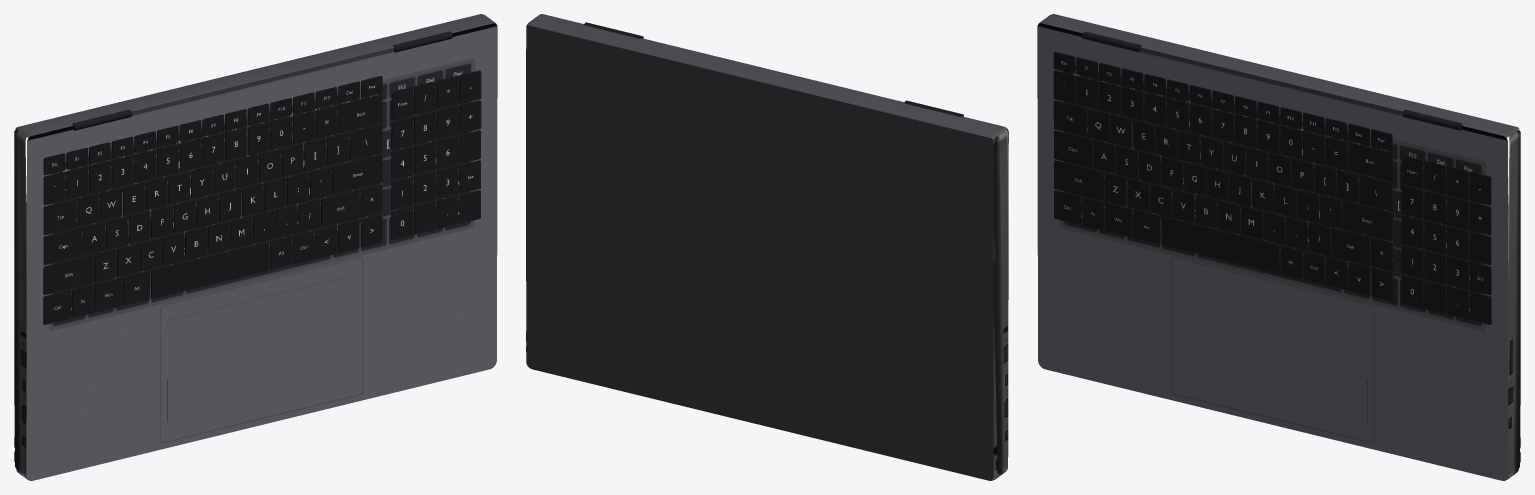
File: body.obj
The picture shows the model from 3 angles, left to right: view 1: azimuth 30°, elevation 25°; view 2: azimuth 150°, elevation 25°; view 3: azimuth 330°, elevation 25°; orthographic projection.
Parts seen in each view (by area): view 1: deck, keys.001, keys, base, base.002, legend, hinge; view 2: base.003, base, base.002, deck; view 3: deck, keys.001, keys, base, base.001, legend, hinge.
Part boxes in pixels (<box>): deck: <box>26,23,497,480</box>; keys.001: <box>44,71,481,324</box>; keys: <box>43,70,480,324</box>; base: <box>15,14,496,480</box>; base.002: <box>14,129,27,479</box>; legend: <box>52,85,473,309</box>; hinge: <box>72,31,452,130</box>; base.003: <box>526,25,993,480</box>; base: <box>527,14,1007,480</box>; base.002: <box>993,129,1008,475</box>; deck: <box>993,129,1008,470</box>; deck: <box>1037,23,1508,480</box>; keys.001: <box>1053,52,1490,324</box>; keys: <box>1054,51,1491,324</box>; base: <box>1038,14,1519,480</box>; base.001: <box>1507,129,1520,479</box>; legend: <box>1061,61,1482,305</box>; hinge: <box>1082,31,1462,130</box>.
Bounding box in the file's own units: 369 × 260 × 21.35.
